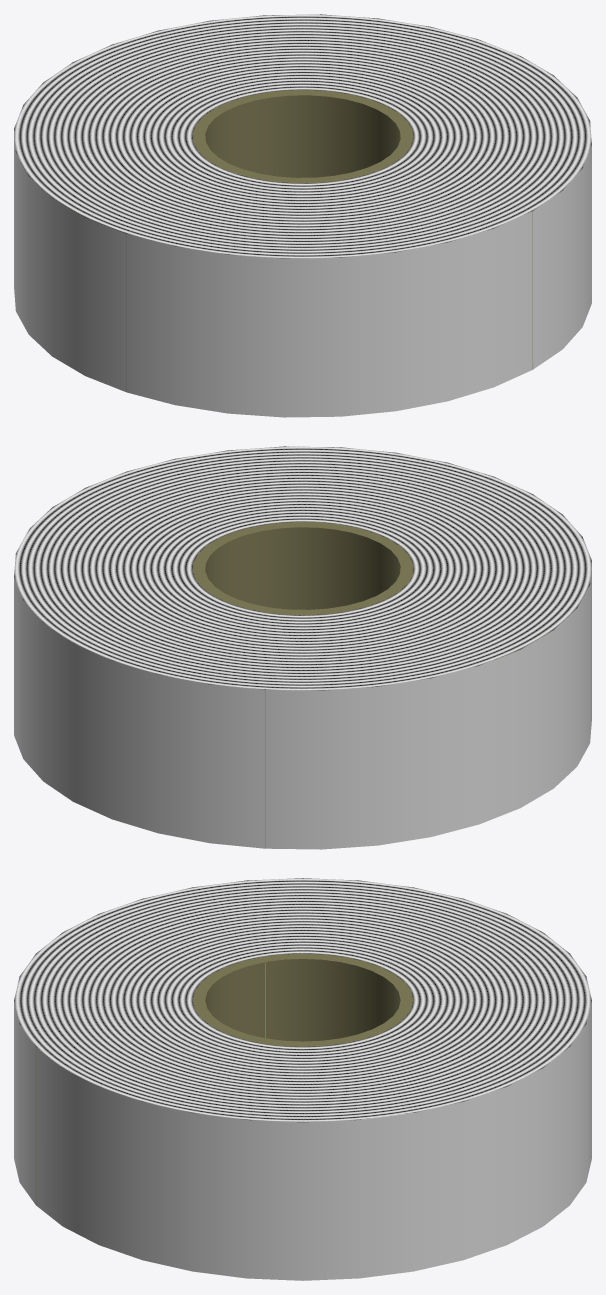
3 renders of one model, top to bottom at view 1: azimuth 30°, elevation 25°; view 2: azimuth 150°, elevation 25°; view 3: azimuth 270°, elevation 25°, orthographic.
Visible parts, largest first — view 1: Circle_Baked; view 2: Circle_Baked; view 3: Circle_Baked.
Part boxes in pixels (x1,y1,x2,y2): Circle_Baked: (14, 14, 591, 417); Circle_Baked: (14, 446, 591, 849); Circle_Baked: (14, 878, 591, 1280).
Bounding box in the file's own units: 129 × 39.08 × 129.
